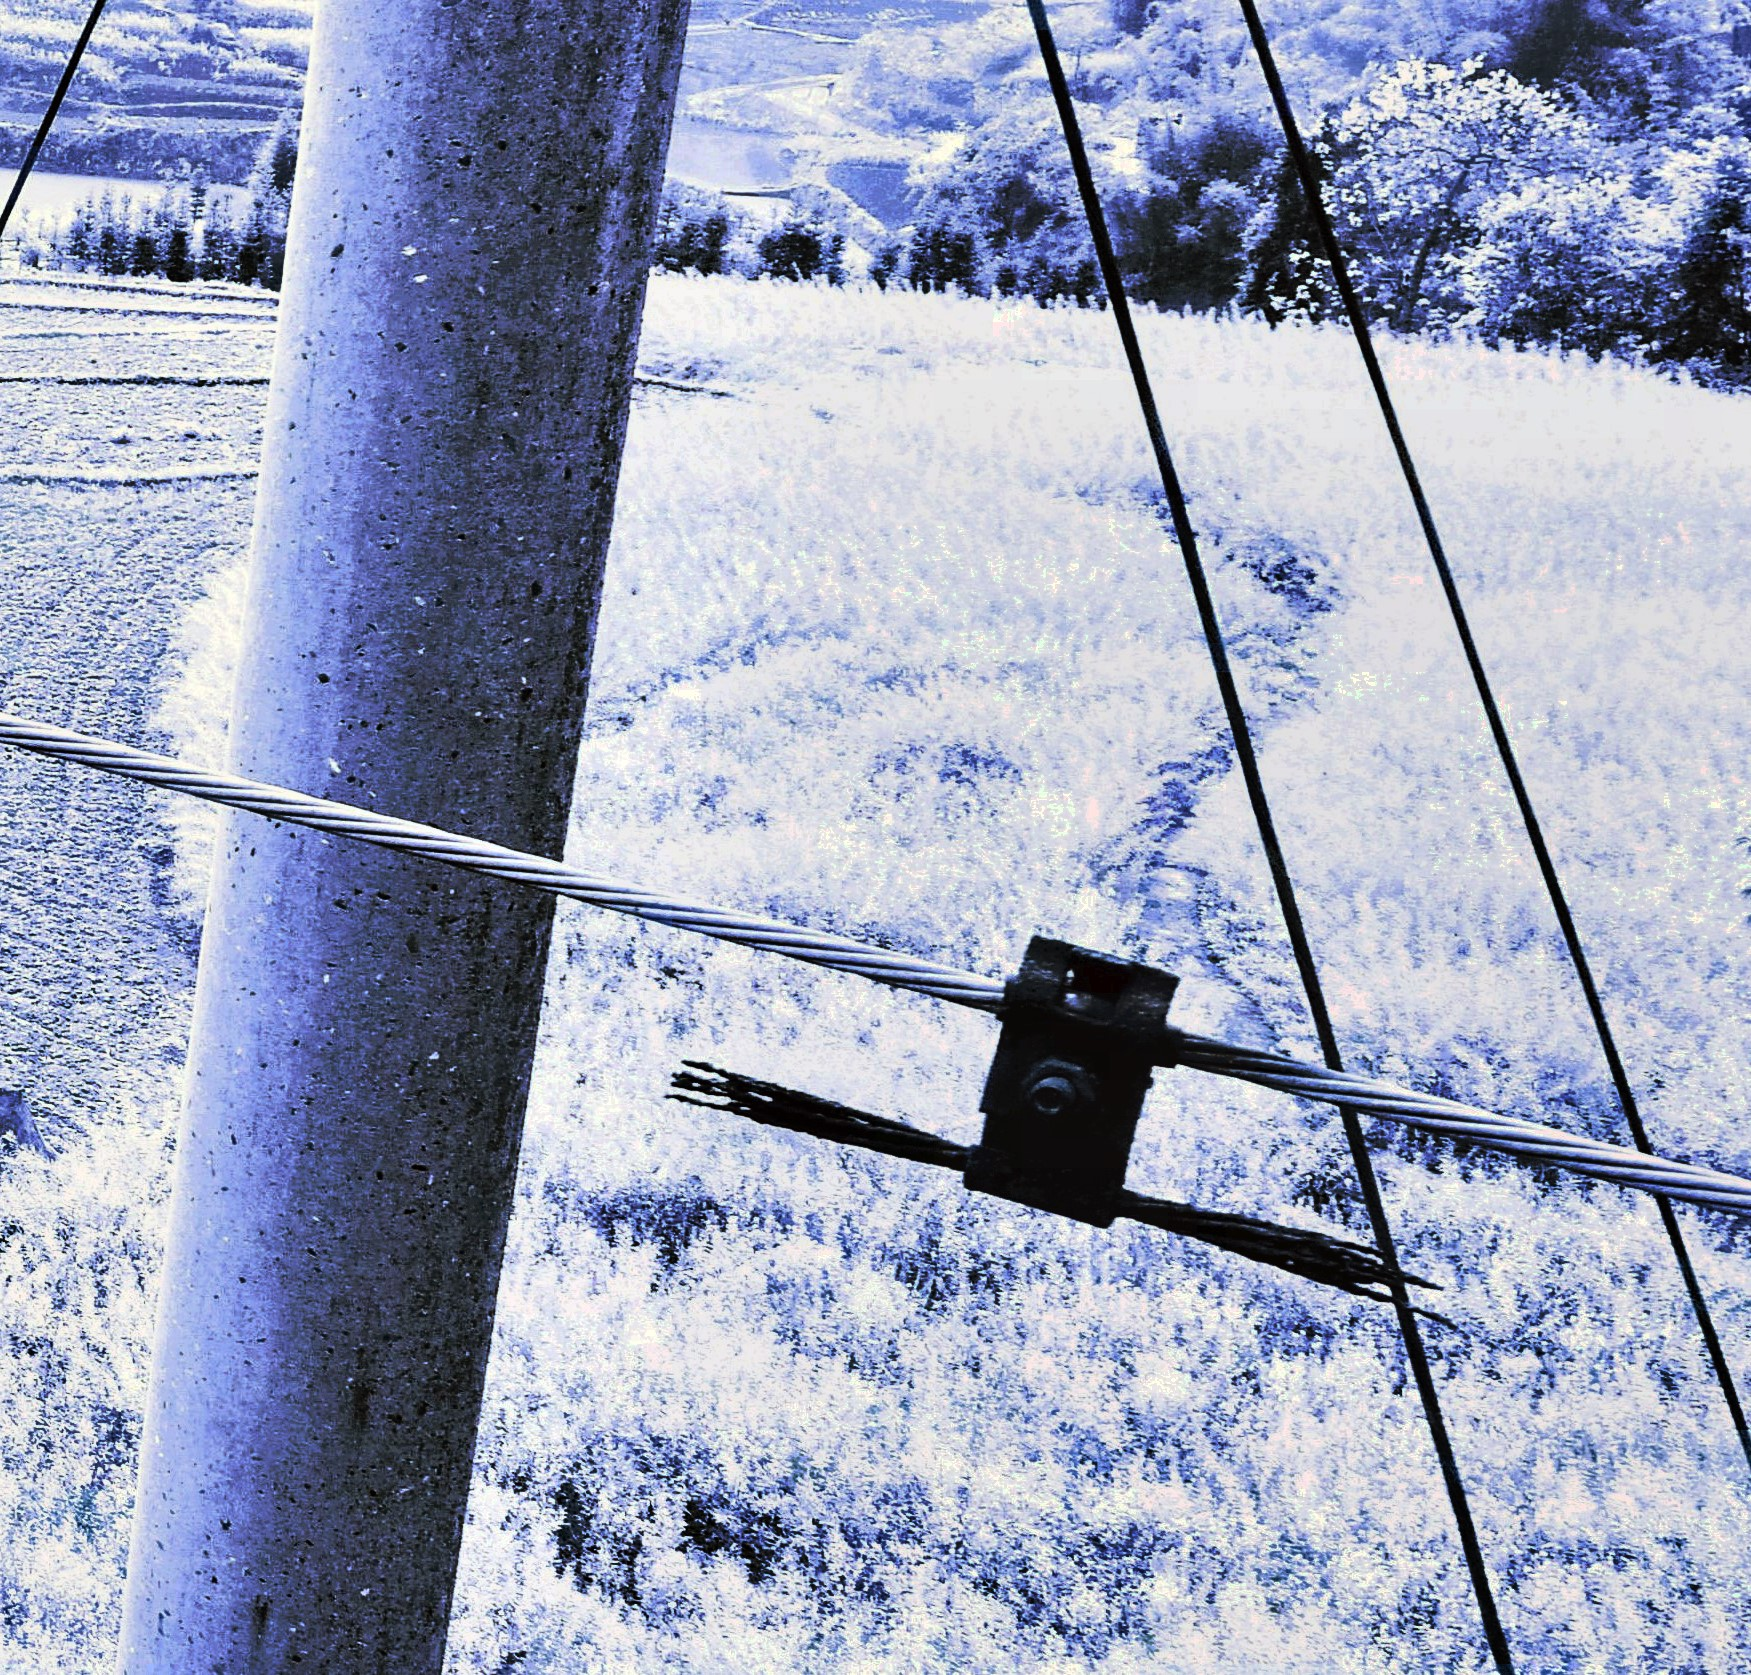Damage of shockproof hammer: (655, 873, 1446, 1336)
